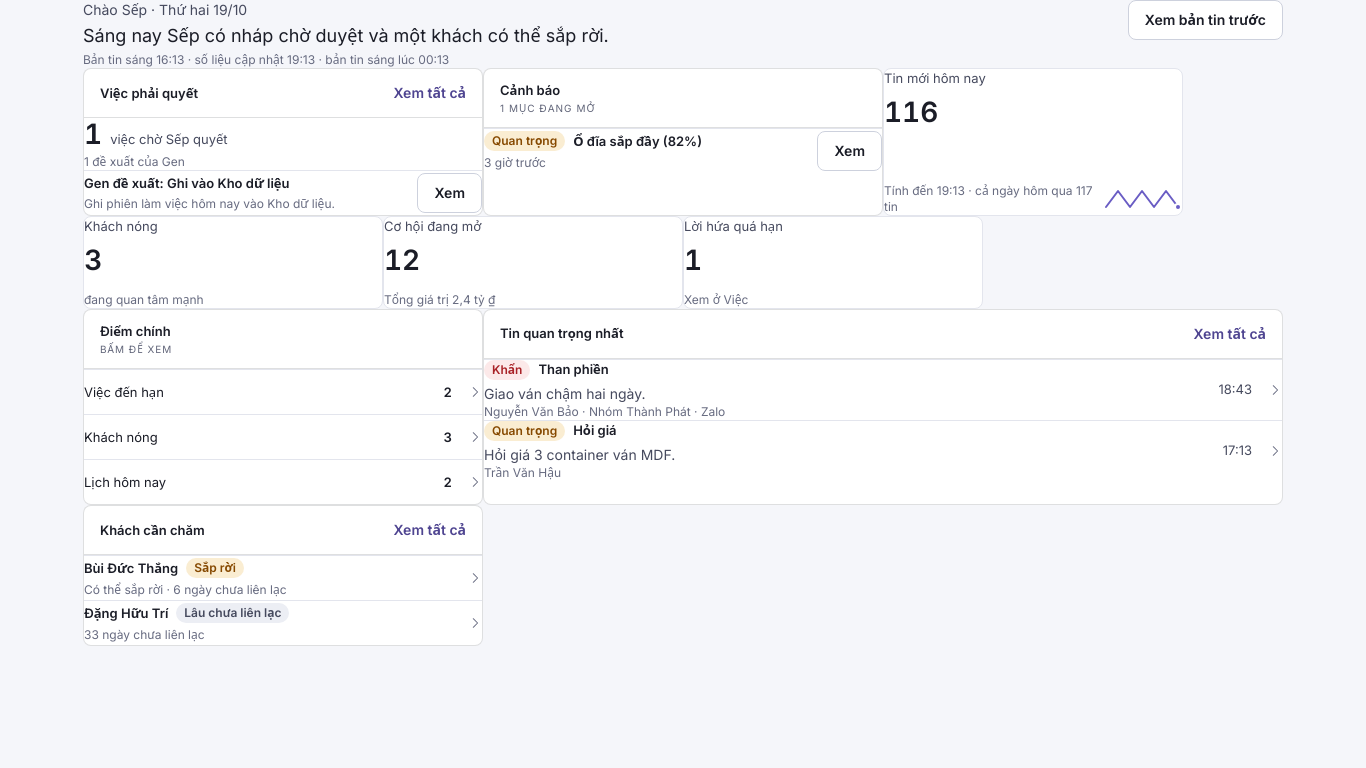
Test case: Tình báo (/owner) › đề xuất của Gen: "Xem" mở ProposalDecide trong ngăn; Duyệt chỉ MỞ, chưa ghi gì
The image size is (1366, 768).
Click the button "Xem".
click(450, 193)  # box [417, 173, 482, 213]
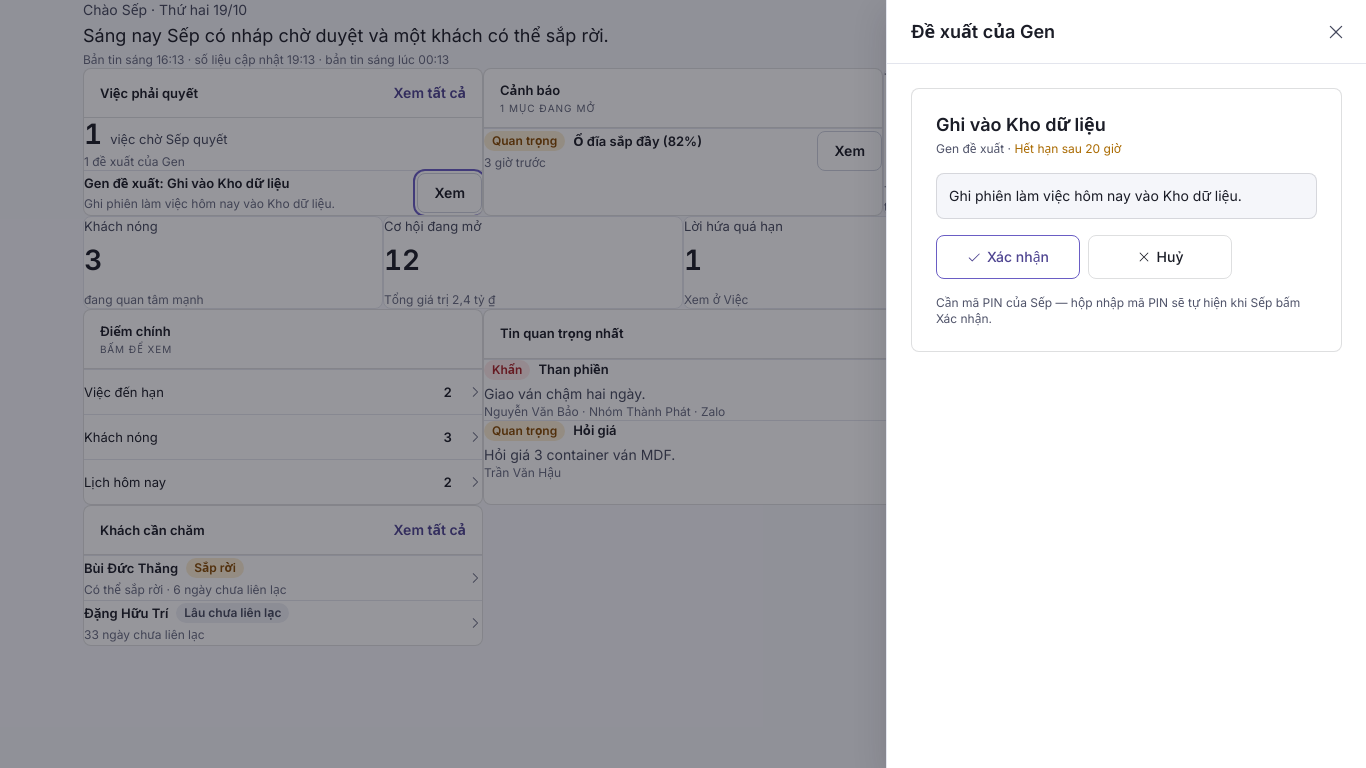
Now the text with test id "owner-proposal-summary" shows "Ghi phiên làm việc", box [949, 187, 1242, 204]
